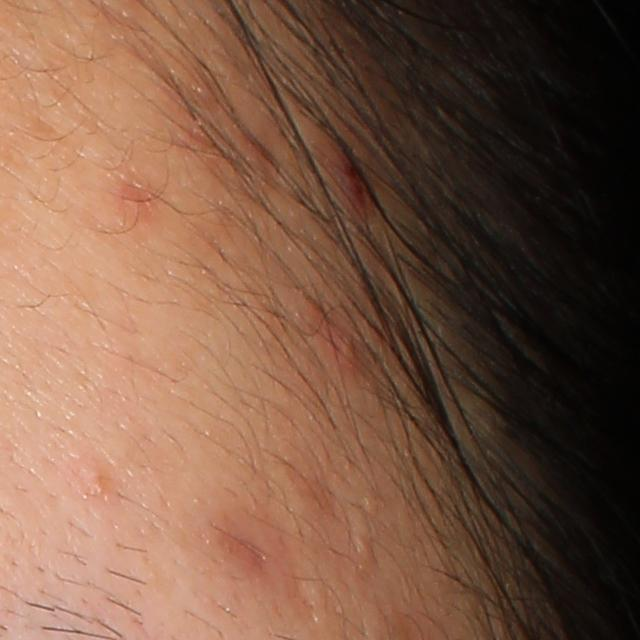comedo: (359, 532, 377, 556)
papule: (323, 135, 367, 203)
